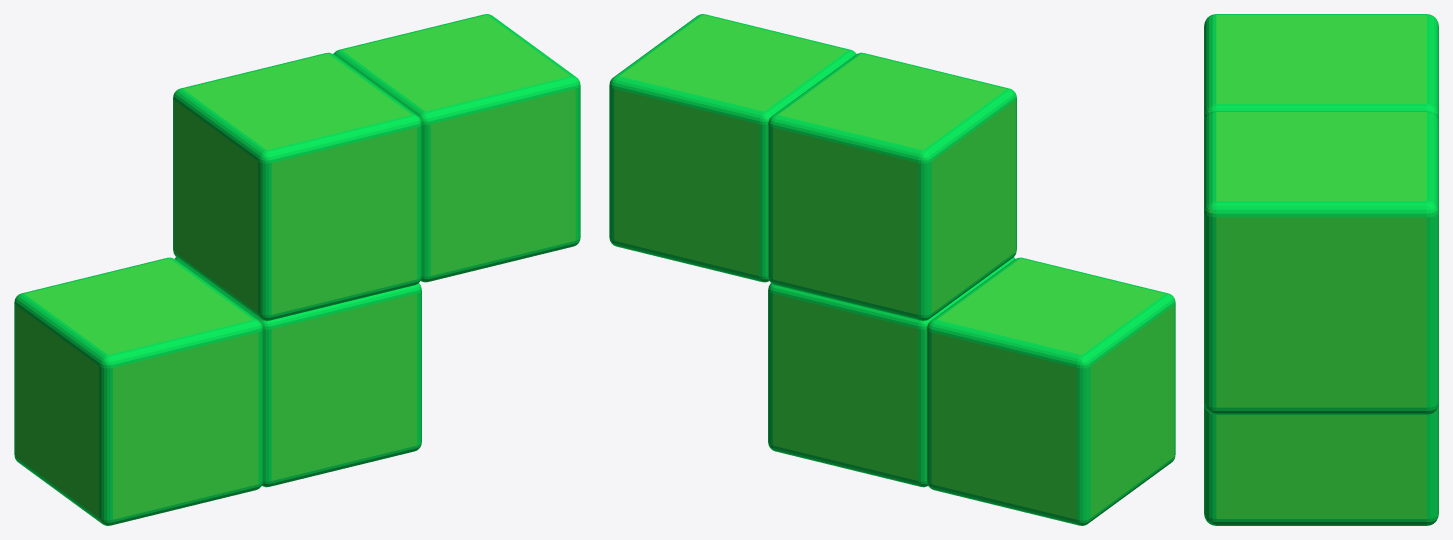
Rendered from green.glb.
The picture shows the model from 3 angles, left to right: view 1: azimuth 30°, elevation 25°; view 2: azimuth 150°, elevation 25°; view 3: azimuth 270°, elevation 25°; orthographic projection. The views are drawn at different scales.
Parts seen in each view (by area): view 1: Cube.002, Cube.003, Cube.004, Cube; view 2: Cube.002, Cube.003, Cube.004, Cube; view 3: Cube.004, Cube, Cube.003.
Boxes of the visible parts, x1=… form: Cube.002: x1=14, y1=257, x2=262, y2=525; Cube.003: x1=173, y1=52, x2=421, y2=320; Cube.004: x1=333, y1=14, x2=580, y2=282; Cube: x1=175, y1=257, x2=421, y2=487; Cube.002: x1=927, y1=257, x2=1175, y2=525; Cube.003: x1=768, y1=52, x2=1016, y2=320; Cube.004: x1=609, y1=14, x2=856, y2=282; Cube: x1=768, y1=257, x2=1014, y2=487; Cube.004: x1=1204, y1=111, x2=1438, y2=414; Cube: x1=1204, y1=403, x2=1438, y2=525; Cube.003: x1=1204, y1=14, x2=1438, y2=122.
Size of the model in its own units: 3.02 by 2.02 by 1.02.
